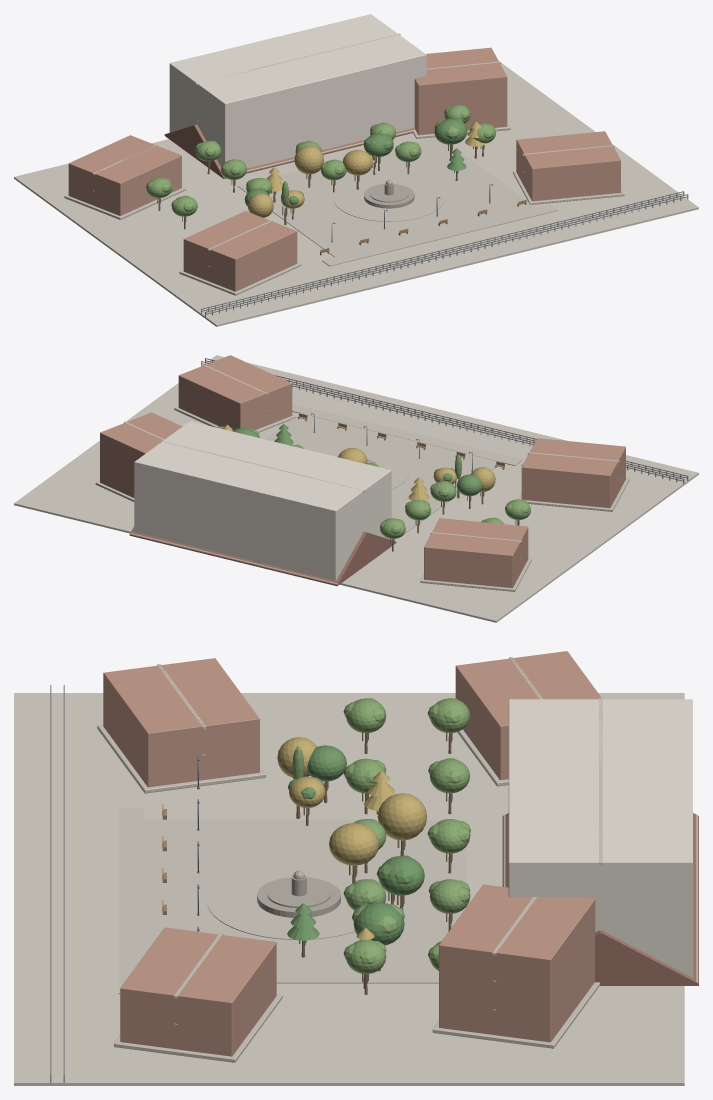
Rendered from DISTRICT_F_PLAZA_TOWN.glb.
3 renders of one model, top to bottom at view 1: azimuth 30°, elevation 25°; view 2: azimuth 150°, elevation 25°; view 3: azimuth 270°, elevation 25°, orthographic. The views are drawn at different scales.
Parts seen in each view (by area): view 1: F_Plaza, Mass, F_PlazaDetail, Mass.003, Mass.002, Mass.004, Mass.001, Roof_Pitched, F_Fountain, F_WaterRail_Rail_102, F_WaterRail2_Rail_102, F_WaterRail_Rail_57 (+8 smaller); view 2: F_Plaza, Mass, F_PlazaDetail, Mass.004, Mass.001, Mass.003, Mass.002, Roof_Pitched, Mass_Plinth.001, Mass_Plinth.003, F_WaterRail2_Rail_102, F_WaterRail2_Rail_57 (+3 smaller); view 3: F_Plaza, Mass, F_PlazaDetail, Mass.002, Mass.003, Mass.004, Mass.001, Roof_Pitched, F_Fountain, Tree_Leaves.023, Tree_Leaves.019, Mass_Plinth.004 (+19 smaller).
Boxes of the visible parts, left/top/right/bottom form: F_Plaza: left=14, top=61, right=698, bottom=326; Mass: left=169, top=14, right=426, bottom=168; F_PlazaDetail: left=237, top=137, right=557, bottom=266; Mass.003: left=183, top=211, right=297, bottom=291; Mass.002: left=414, top=47, right=507, bottom=135; Mass.004: left=516, top=131, right=620, bottom=201; Mass.001: left=68, top=135, right=181, bottom=215; Roof_Pitched: left=164, top=124, right=415, bottom=178; F_Fountain: left=364, top=180, right=414, bottom=208; F_WaterRail_Rail_102: left=201, top=191, right=683, bottom=309; F_WaterRail2_Rail_102: left=205, top=194, right=687, bottom=312; F_WaterRail_Rail_57: left=201, top=193, right=683, bottom=311; F_Plaza: left=14, top=355, right=698, bottom=622; Mass: left=134, top=421, right=391, bottom=580; F_PlazaDetail: left=265, top=404, right=522, bottom=534; Mass.004: left=178, top=355, right=292, bottom=430; Mass.001: left=424, top=518, right=528, bottom=588; Mass.003: left=521, top=438, right=625, bottom=508; Mass.002: left=100, top=412, right=182, bottom=497; Roof_Pitched: left=129, top=526, right=396, bottom=586; Mass_Plinth.001: left=420, top=558, right=531, bottom=591; Mass_Plinth.003: left=519, top=478, right=629, bottom=511; F_WaterRail2_Rail_102: left=205, top=358, right=687, bottom=476; F_WaterRail2_Rail_57: left=205, top=360, right=687, bottom=478; F_Plaza: left=14, top=693, right=684, bottom=1085; Mass: left=508, top=699, right=692, bottom=977; F_PlazaDetail: left=118, top=808, right=466, bottom=994; Mass.002: left=439, top=884, right=595, bottom=1042; Mass.003: left=103, top=658, right=259, bottom=787; Mass.004: left=120, top=927, right=276, bottom=1056; Mass.001: left=455, top=651, right=601, bottom=780; Roof_Pitched: left=502, top=813, right=698, bottom=985; F_Fountain: left=257, top=870, right=340, bottom=917; Tree_Leaves.023: left=377, top=793, right=427, bottom=840; Tree_Leaves.019: left=329, top=823, right=379, bottom=865; Mass_Plinth.004: left=114, top=994, right=282, bottom=1062.
Size of the model in its own units: 110 by 16.4 by 81.7.
